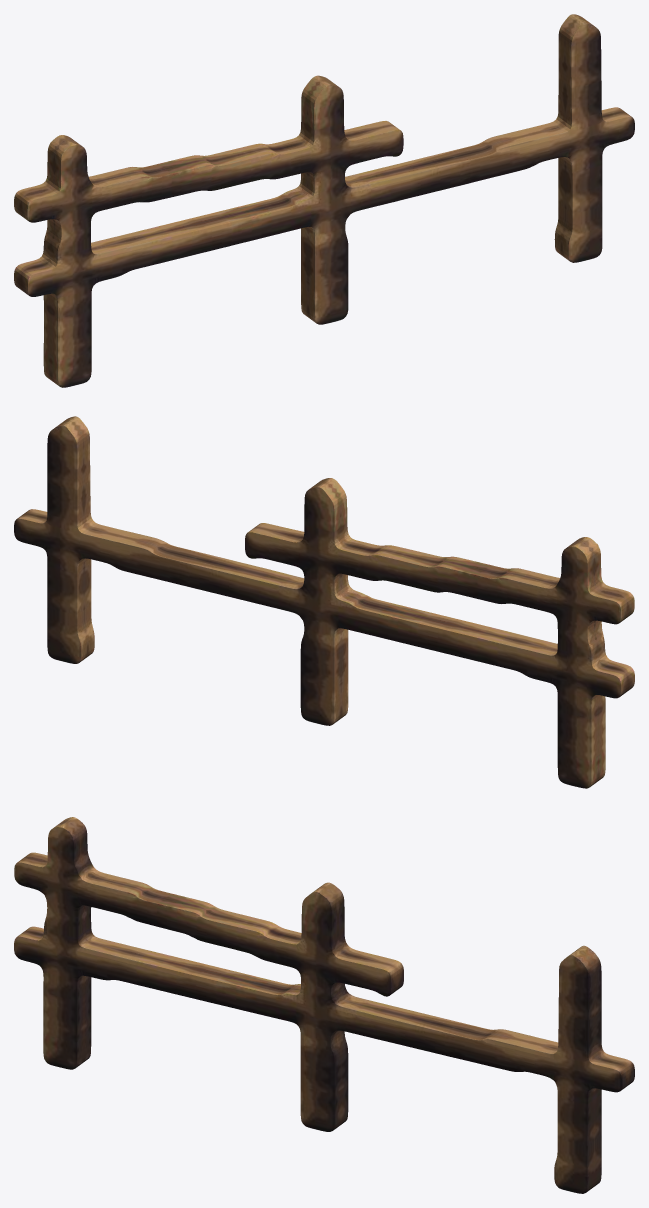
Rendered from fence_broken.glb.
3 renders of one model, top to bottom at view 1: azimuth 30°, elevation 25°; view 2: azimuth 150°, elevation 25°; view 3: azimuth 330°, elevation 25°, orthographic.
Parts seen in each view (by area): view 1: geometry_0; view 2: geometry_0; view 3: geometry_0.
Boxes of the visible parts, x1,y1,x2,y2 form: geometry_0: (14,14,634,387); geometry_0: (14,416,634,788); geometry_0: (14,817,634,1193).
Bounding box in the file's own units: 6.11 × 2.31 × 0.2613.
Materials: 1 (1 with a texture image).
